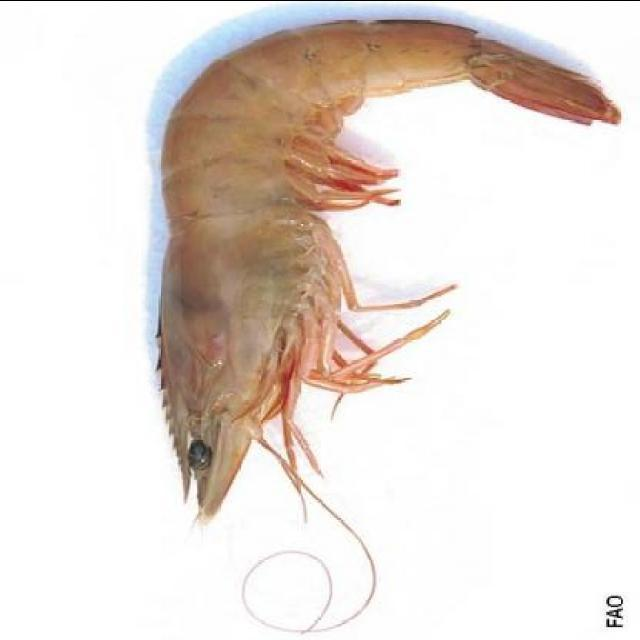shrimp: (145, 16, 626, 531)
